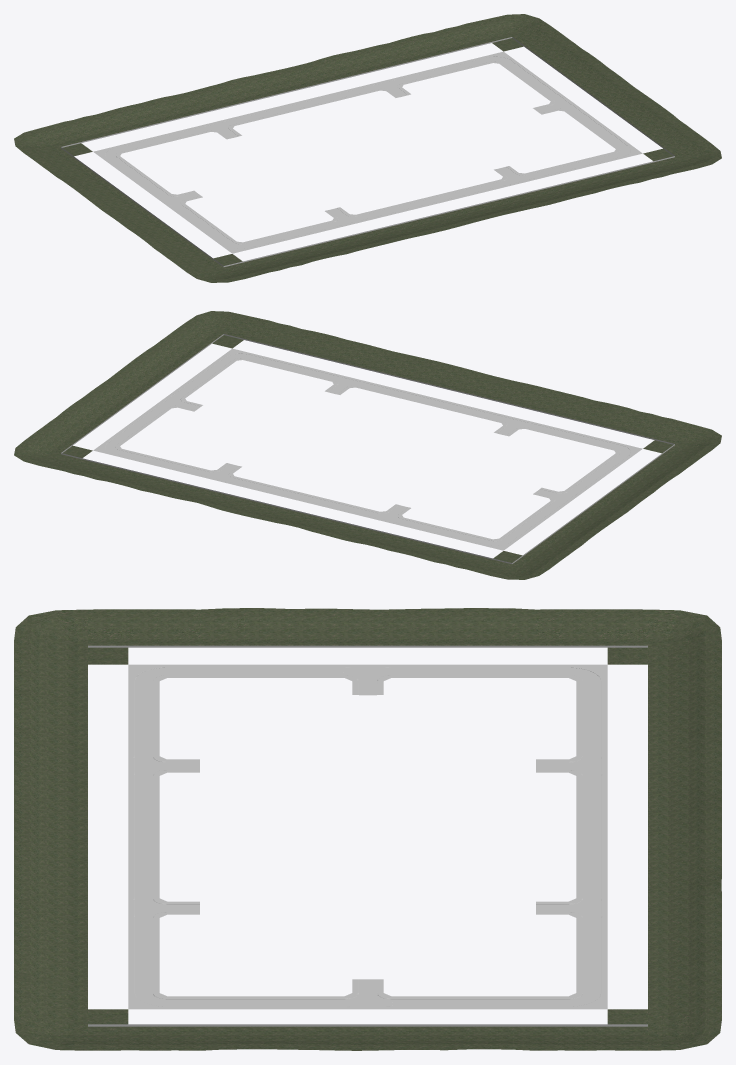
File: Border-Block-01.fbx
The picture shows the model from 3 angles, top to bottom: view 1: azimuth 30°, elevation 25°; view 2: azimuth 150°, elevation 25°; view 3: azimuth 270°, elevation 25°; orthographic projection. The views are drawn at different scales.
Parts seen in each view (by area): view 1: BD-T, BD-B, BD-R, BD-L, BD-RT, BD-LT, BD-RB, BD-LB, BD-T-Sidewalk, BD-B-Sidewalk, BD-L-Sidewalk, BD-R-Sidewalk; view 2: BD-B, BD-T, BD-R, BD-L, BD-RB, BD-LB, BD-RT, BD-LT, BD-T-Sidewalk, BD-B-Sidewalk, BD-L-Sidewalk, BD-R-Sidewalk; view 3: BD-T, BD-B, BD-L, BD-R, BD-LB, BD-LT, BD-RT, BD-RB, BD-T-Sidewalk, BD-B-Sidewalk, BD-R-Sidewalk, BD-L-Sidewalk (+4 smaller).
Part boxes in pixels (x1,y1,x2,y2): BD-T: [96, 32, 473, 148]; BD-B: [261, 157, 639, 264]; BD-R: [512, 49, 679, 141]; BD-L: [57, 164, 223, 248]; BD-RT: [434, 14, 581, 69]; BD-LT: [14, 114, 135, 176]; BD-RB: [600, 120, 721, 182]; BD-LB: [154, 235, 301, 282]; BD-T-Sidewalk: [129, 60, 475, 149]; BD-B-Sidewalk: [260, 155, 606, 244]; BD-L-Sidewalk: [114, 163, 226, 238]; BD-R-Sidewalk: [509, 67, 621, 141]; BD-B: [262, 329, 639, 445]; BD-T: [96, 454, 474, 561]; BD-R: [56, 346, 223, 438]; BD-L: [512, 461, 678, 545]; BD-RB: [154, 311, 301, 366]; BD-LB: [600, 411, 721, 473]; BD-RT: [14, 417, 135, 479]; BD-LT: [434, 532, 581, 579]; BD-T-Sidewalk: [129, 452, 475, 541]; BD-B-Sidewalk: [260, 357, 606, 446]; BD-L-Sidewalk: [509, 460, 621, 535]; BD-R-Sidewalk: [114, 364, 226, 438]; BD-T: [536, 688, 721, 979]; BD-B: [14, 688, 199, 979]; BD-L: [200, 608, 535, 695]; BD-R: [200, 979, 535, 1050]; BD-LB: [14, 609, 199, 695]; BD-LT: [536, 609, 721, 695]; BD-RT: [536, 972, 721, 1050]; BD-RB: [14, 972, 199, 1050]; BD-T-Sidewalk: [536, 695, 607, 979]; BD-B-Sidewalk: [128, 695, 199, 979]; BD-R-Sidewalk: [200, 979, 535, 1009]; BD-L-Sidewalk: [200, 664, 535, 694].
Size of what is drawn, in the model's own units: 93200 by 938 by 63200.
